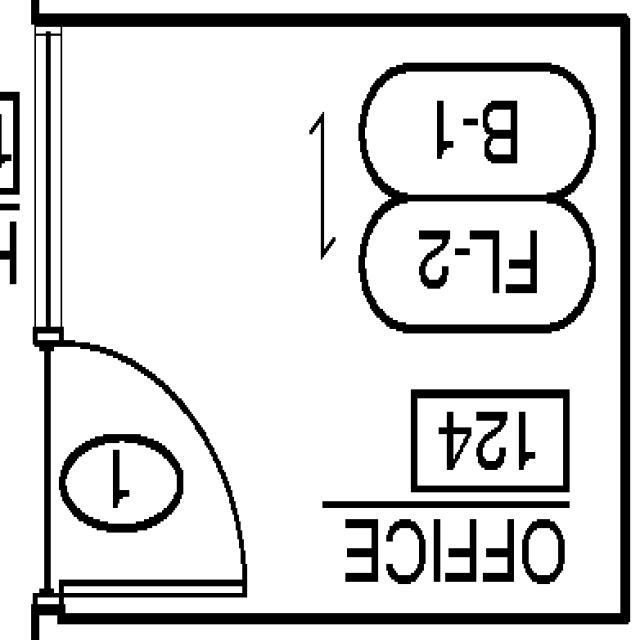Doors: (39, 326, 256, 604)
